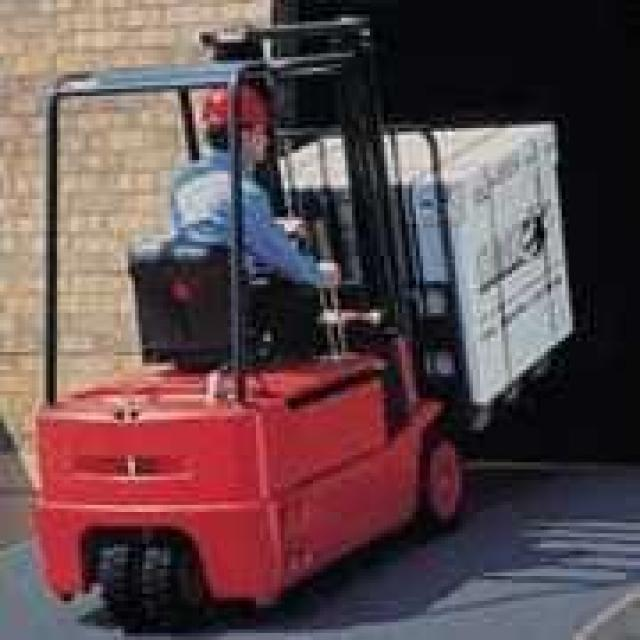Chariot elevateur: (32, 14, 572, 636)
